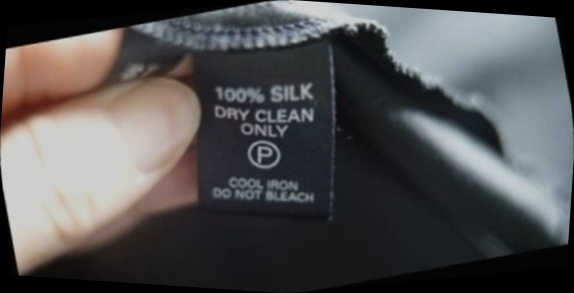dry_clean_any_solvent_except_trichloroethylene: (240, 130, 290, 177)
